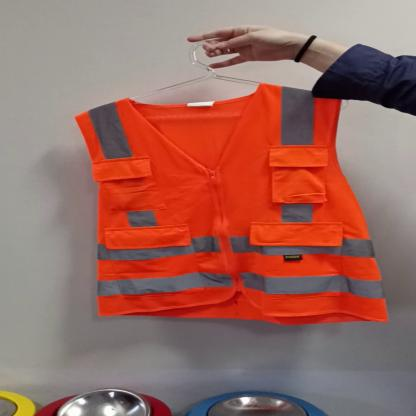colete: (64, 82, 398, 330)
